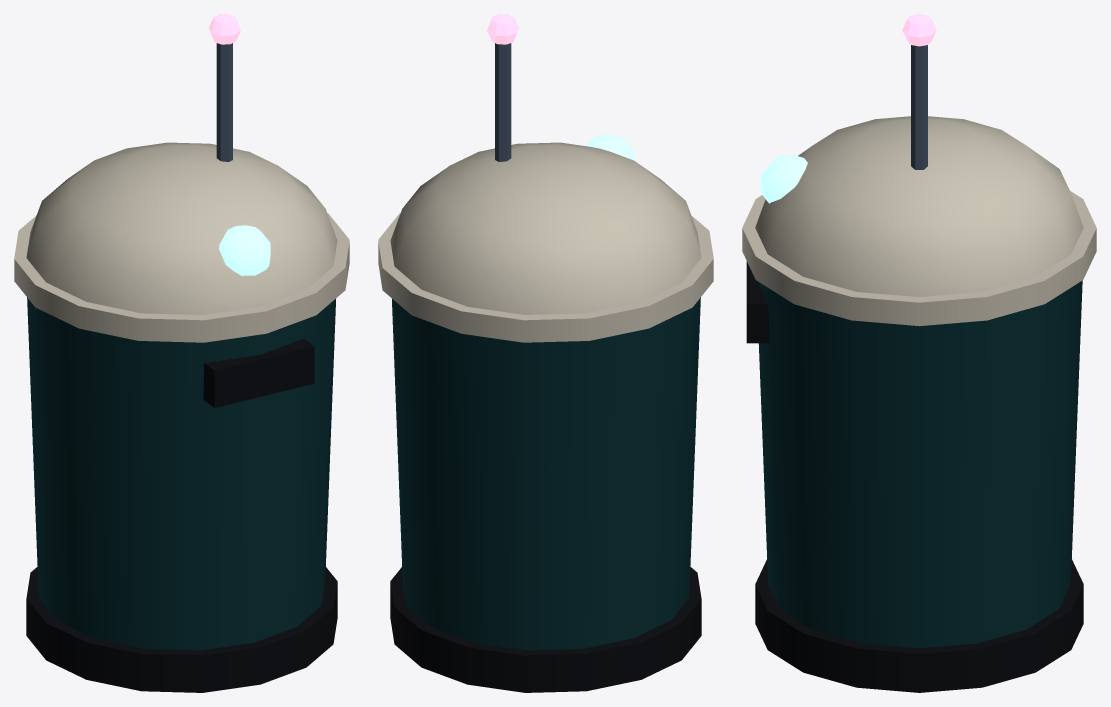
File: bin_bot.glb
The picture shows the model from 3 angles, left to right: view 1: azimuth 30°, elevation 25°; view 2: azimuth 150°, elevation 25°; view 3: azimuth 270°, elevation 25°; orthographic projection. The views are drawn at different scales.
Parts seen in each view (by area): view 1: bin_bot; view 2: bin_bot; view 3: bin_bot.
Boxes of the visible parts, left/top/right/bottom form: bin_bot: left=14, top=14, right=349, bottom=692; bin_bot: left=378, top=14, right=713, bottom=692; bin_bot: left=742, top=14, right=1096, bottom=692.
Bounding box in the file's own units: 0.82 × 1.61 × 0.82.
